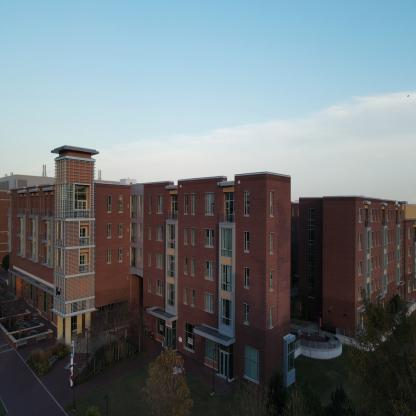Wolf Ridge: (0, 123, 415, 373)
